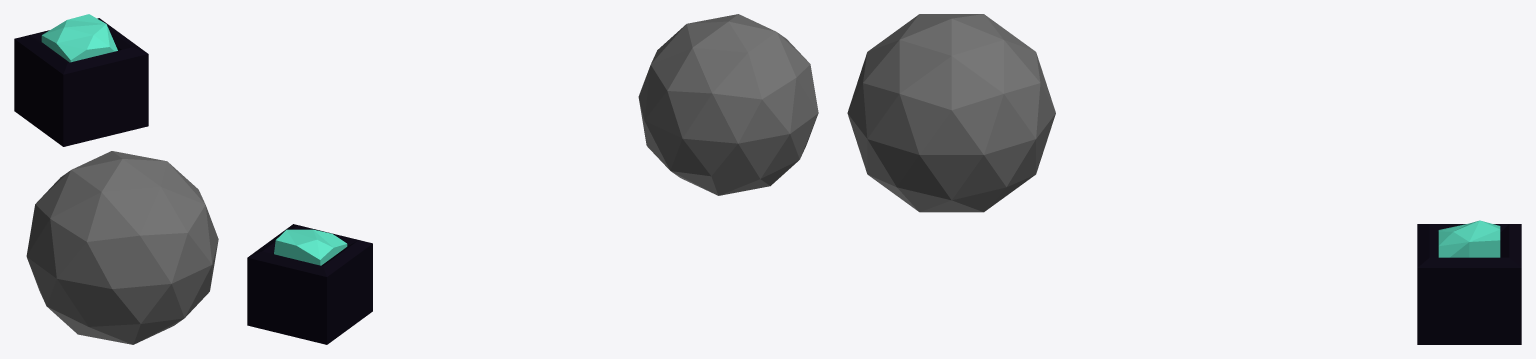
The model's file is glowy_box_2.gltf.
3 views of the same model, side by side, from view 1: azimuth 30°, elevation 25°; view 2: azimuth 150°, elevation 25°; view 3: azimuth 270°, elevation 25° (orthographic). The views are drawn at different scales.
Parts seen in each view (by area): view 1: Icosphere, Cube; view 2: Icosphere, Cube; view 3: Icosphere, Cube.
Part boxes in pixels (x1,y1,x2,y2): Icosphere: (26, 151, 218, 344); Cube: (14, 14, 148, 146); Icosphere: (638, 14, 818, 195); Cube: (247, 224, 372, 344); Icosphere: (847, 14, 1055, 212); Cube: (1417, 220, 1521, 344).
Size of the model in its own units: 3.83 by 2.11 by 6.46.
